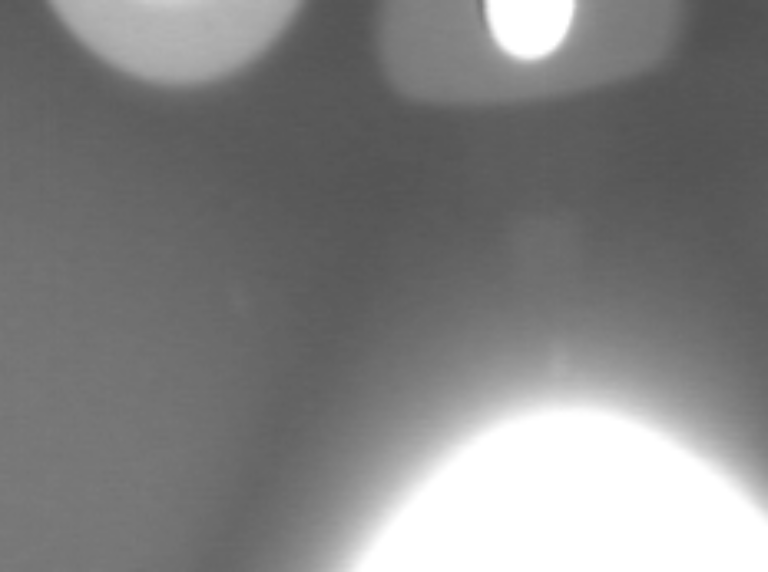defect: (232, 288, 265, 343)
